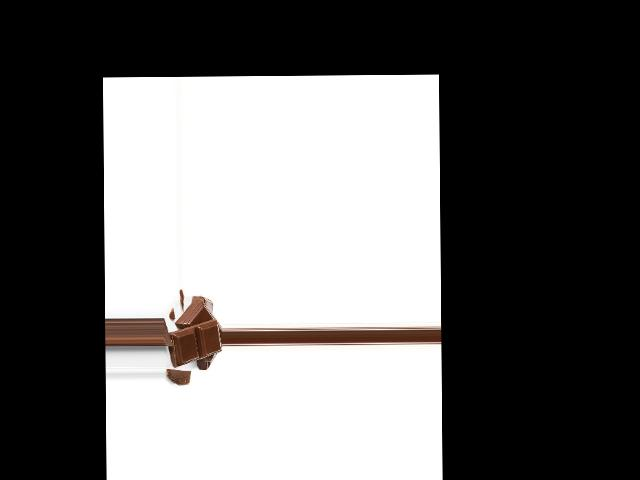chocolate: (169, 318, 219, 365)
